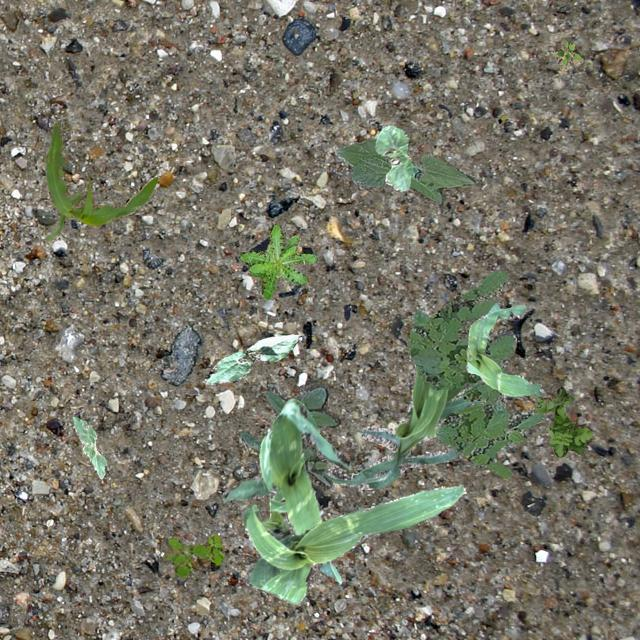crop: (320, 311, 480, 488), (243, 484, 465, 604), (220, 398, 350, 582), (44, 120, 156, 240), (336, 138, 474, 202), (466, 302, 544, 396), (204, 332, 300, 384), (374, 125, 412, 192), (72, 416, 106, 478)
weed: (406, 269, 544, 476), (238, 381, 342, 486), (238, 224, 316, 298), (534, 386, 592, 456), (162, 532, 222, 576), (552, 39, 582, 70)
